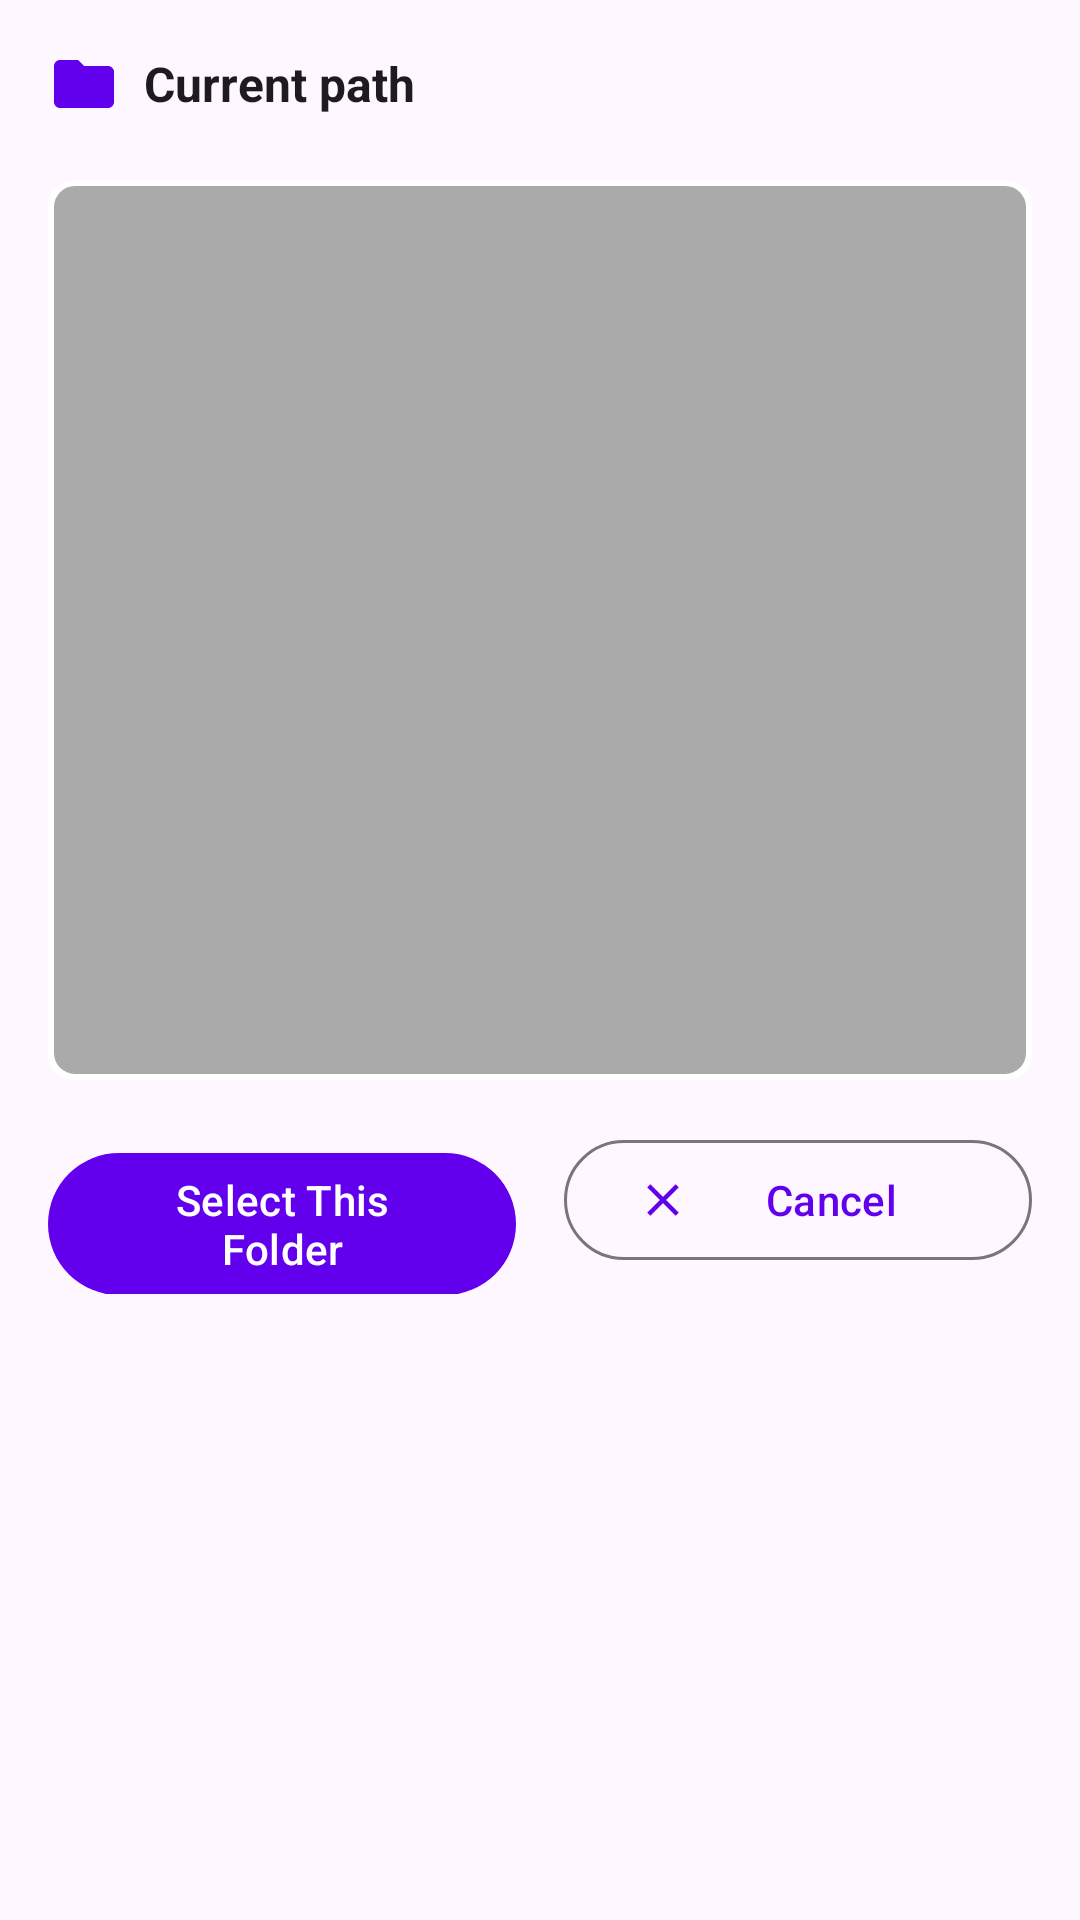

Where to tap for icons on this 1080px×1920px app screen, as [x,y]:
Folder icon: [84,84]
